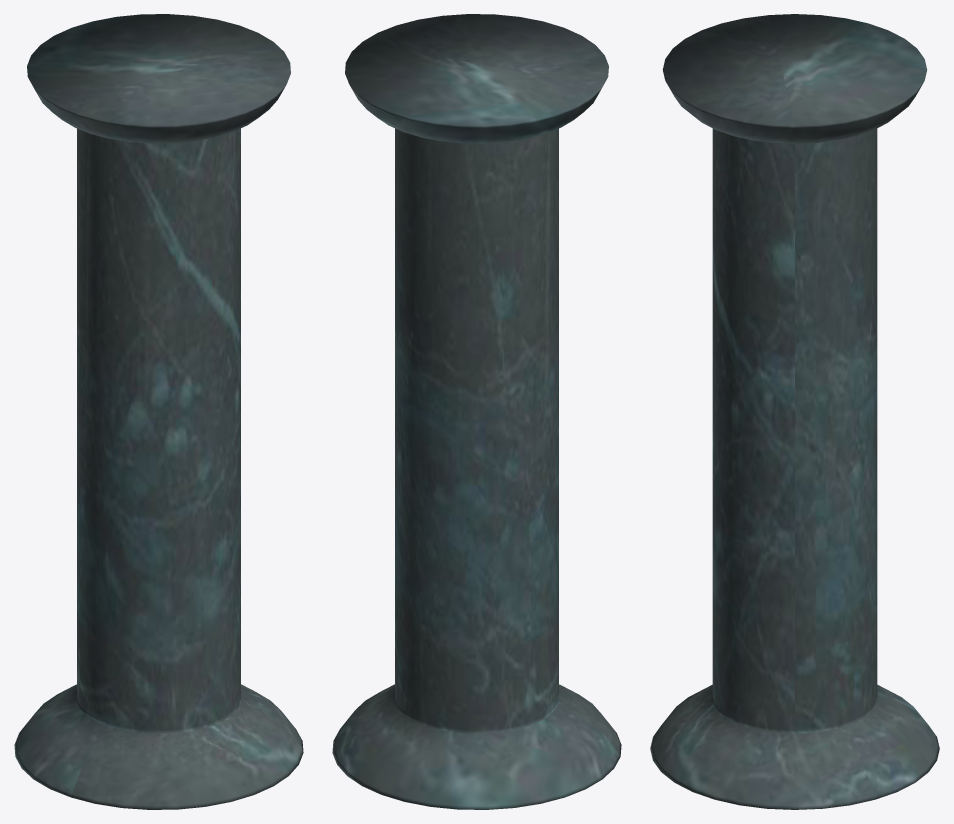
Rendered from Pillar.fbx.
3 views of the same model, side by side, from view 1: azimuth 30°, elevation 25°; view 2: azimuth 150°, elevation 25°; view 3: azimuth 270°, elevation 25° (orthographic).
Visible parts, largest first — view 1: Cylinder; view 2: Cylinder; view 3: Cylinder.
Boxes of the visible parts, bbox=[...] form: Cylinder: bbox=[14, 14, 303, 809]; Cylinder: bbox=[332, 14, 621, 809]; Cylinder: bbox=[650, 14, 939, 809].
Bounding box in the file's own units: 352 × 911 × 352.
Materials: 1 (1 with a texture image).
